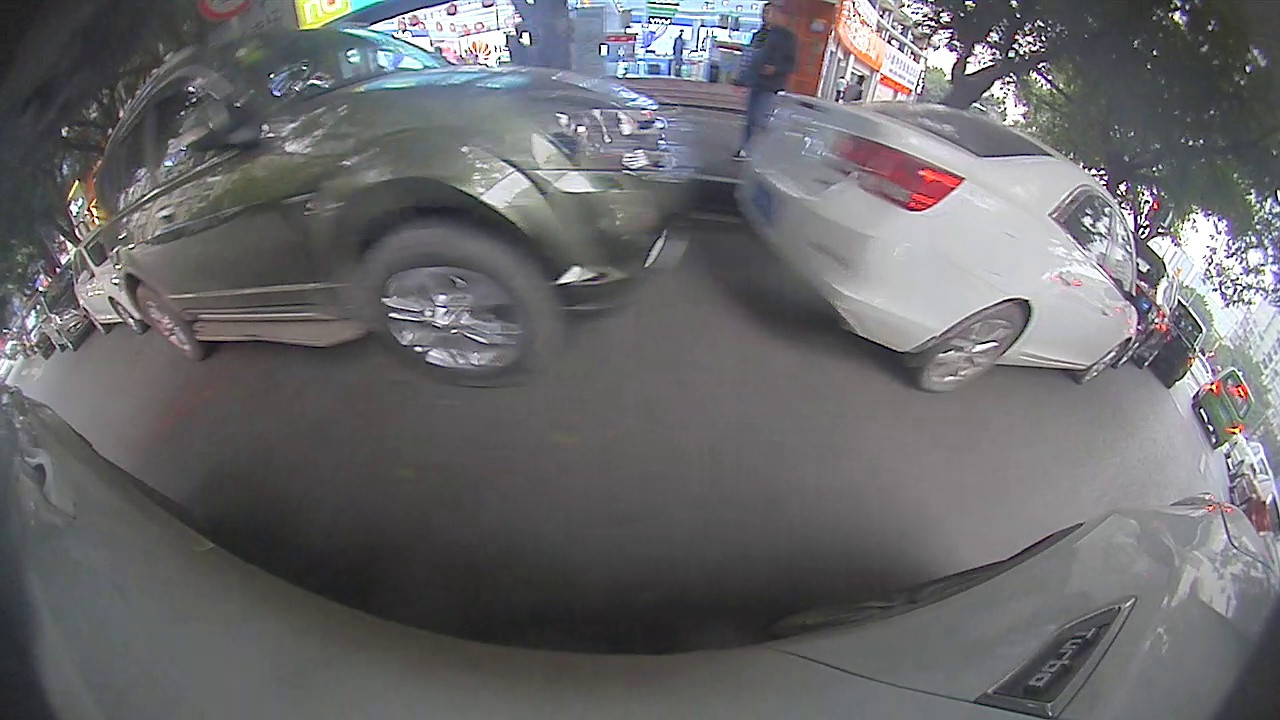car: (91, 24, 686, 390), (734, 88, 1153, 396)
front: (359, 227, 566, 388), (1084, 339, 1128, 383), (111, 299, 141, 337)
rear: (921, 301, 1028, 394), (132, 284, 203, 364)
